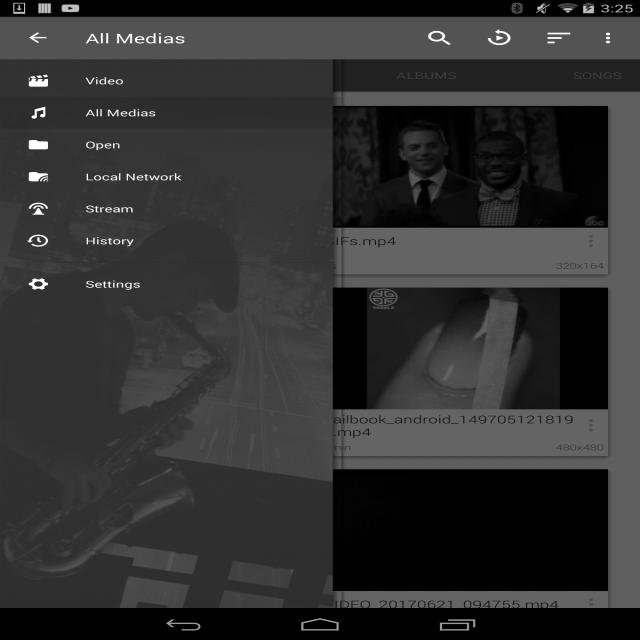CheckedTextView: (26, 192, 316, 225), (26, 96, 316, 128), (26, 128, 316, 160), (26, 160, 316, 192), (26, 224, 316, 256), (26, 268, 316, 300), (26, 65, 316, 96)
ImageButton: (9, 17, 68, 59)
ImageView: (10, 106, 322, 228), (10, 469, 322, 591), (308, 106, 619, 228), (308, 469, 619, 591), (10, 288, 322, 409), (308, 288, 619, 409), (589, 22, 631, 54), (574, 230, 608, 252), (276, 233, 310, 254), (276, 415, 310, 436), (574, 415, 608, 436), (276, 594, 310, 615), (574, 594, 608, 615)
TextView: (22, 230, 276, 258), (319, 412, 574, 439), (22, 412, 276, 439), (319, 234, 574, 248), (319, 597, 574, 611), (22, 597, 276, 611), (469, 22, 529, 54), (529, 22, 589, 54), (410, 22, 469, 54), (85, 29, 186, 47), (148, 260, 310, 271), (446, 260, 608, 271), (152, 442, 310, 452), (453, 442, 608, 452), (319, 260, 446, 271), (22, 260, 148, 271), (319, 442, 453, 452), (21, 442, 152, 452), (225, 69, 286, 82), (396, 69, 457, 82), (573, 69, 622, 82), (64, 69, 107, 82)
